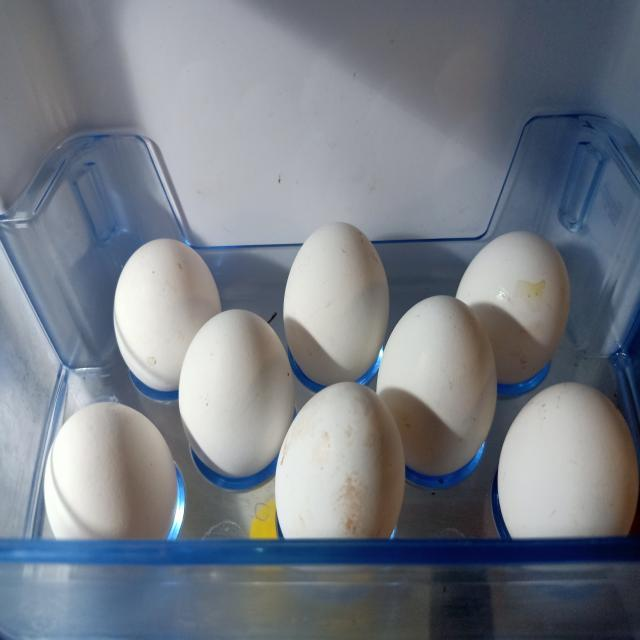Egg: (374, 292, 500, 481), (493, 382, 640, 541), (273, 381, 407, 539), (176, 307, 296, 480), (40, 400, 184, 541), (457, 231, 572, 396), (280, 223, 391, 393), (114, 237, 224, 393)
